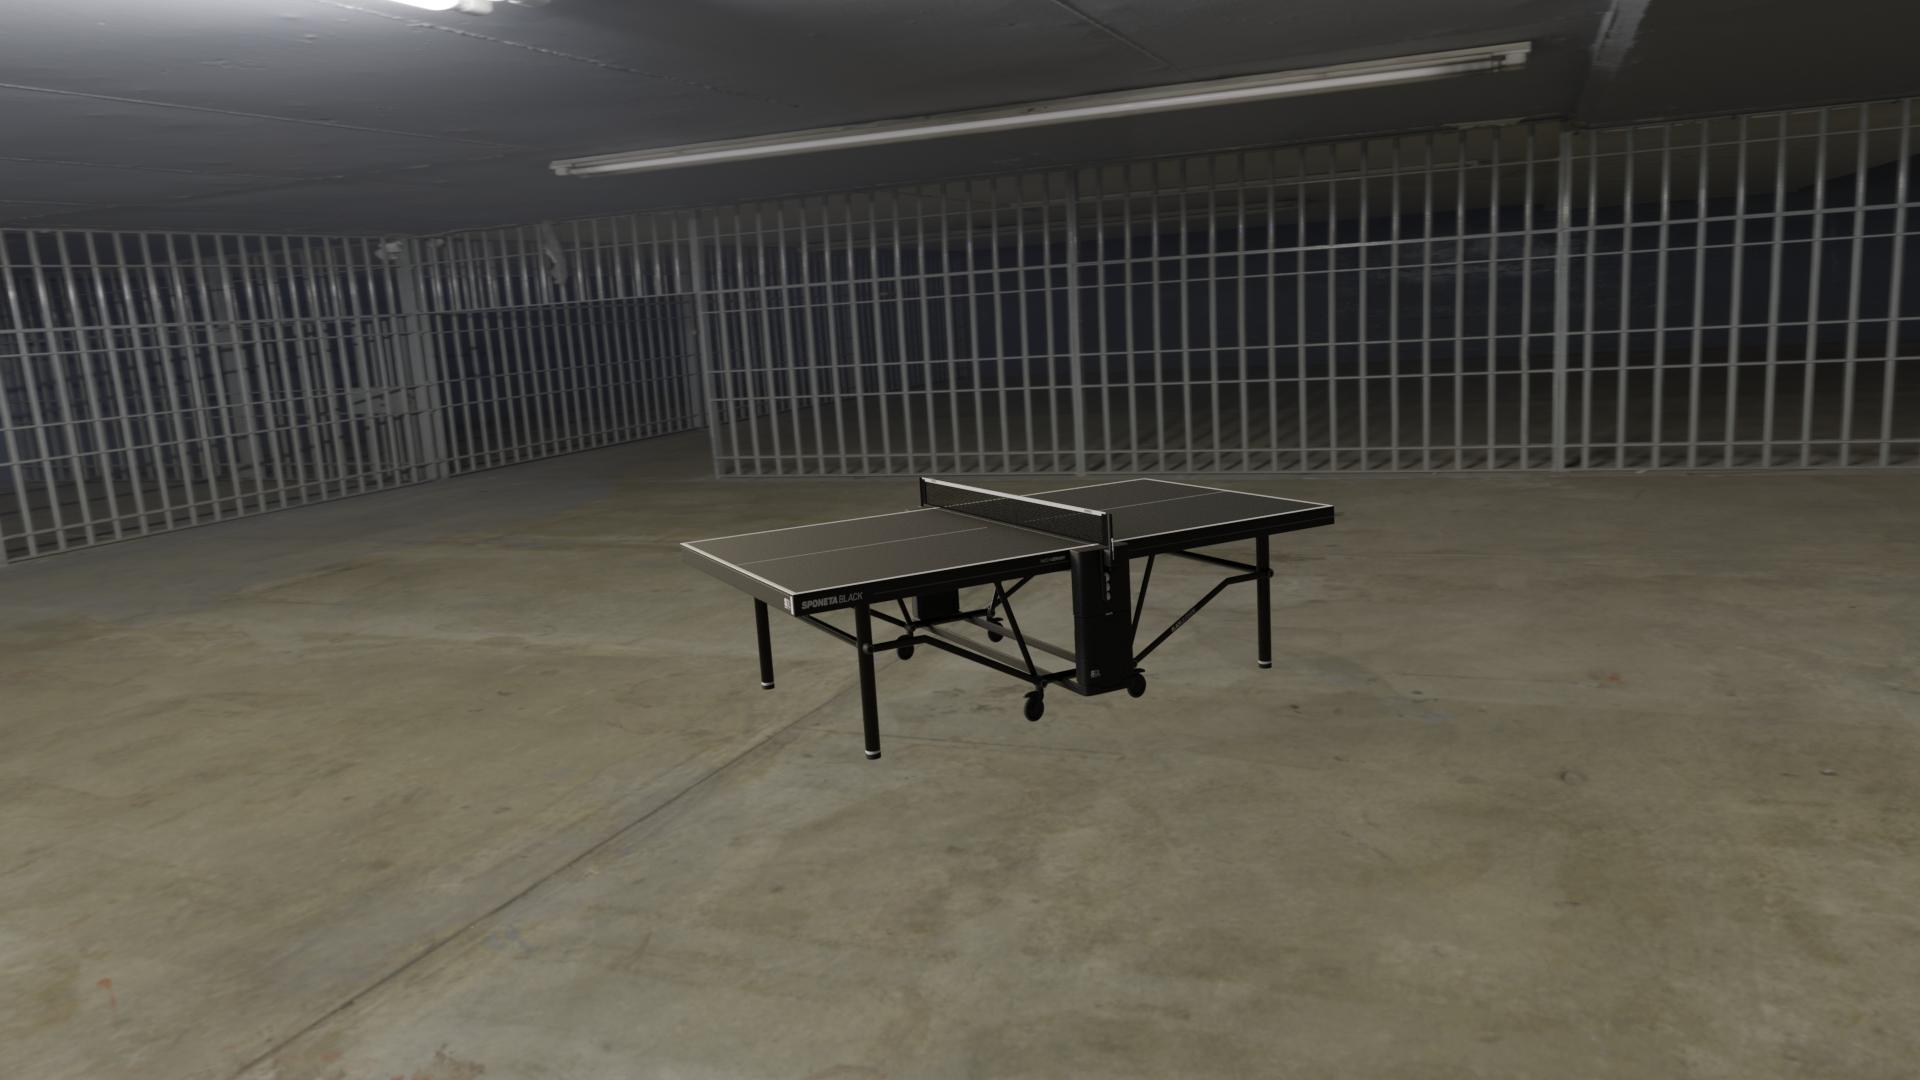table: (686, 479, 1328, 593)
